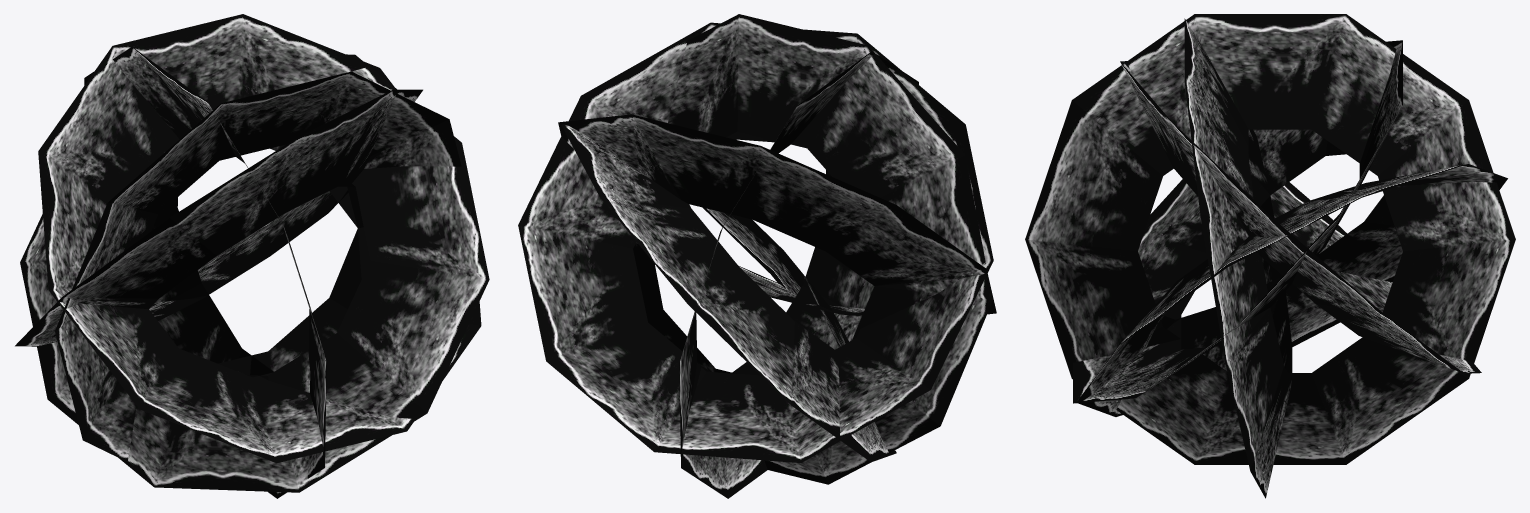
The model's file is Ring_Explosion.FBX.
3 renders of one model, left to right at view 1: azimuth 30°, elevation 25°; view 2: azimuth 150°, elevation 25°; view 3: azimuth 270°, elevation 25°, orthographic.
Parts seen in each view (by area): view 1: ChickenSplosionRings; view 2: ChickenSplosionRings; view 3: ChickenSplosionRings.
Part boxes in pixels (x1,y1,x2,y2): ChickenSplosionRings: (15, 14, 489, 498); ChickenSplosionRings: (518, 14, 996, 498); ChickenSplosionRings: (1025, 14, 1515, 498).
Bounding box in the file's own units: 111 × 104 × 111.
